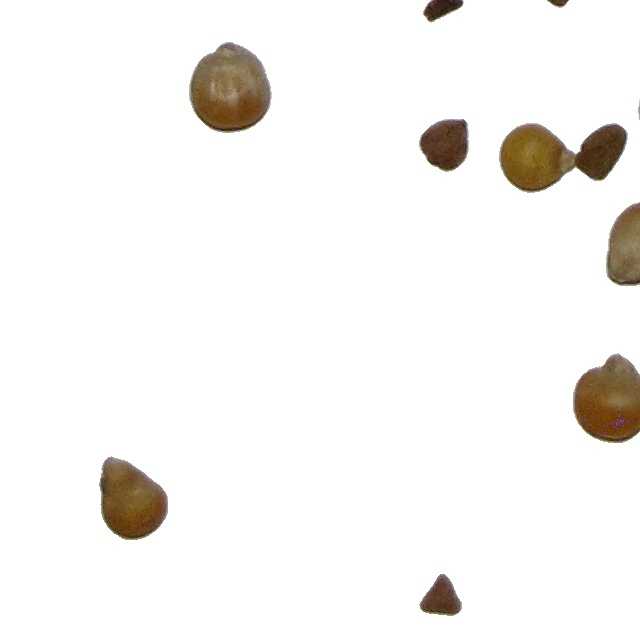buckwheat: (572, 122, 629, 182), (418, 118, 470, 173), (418, 573, 463, 617)
mais: (188, 41, 273, 134), (572, 352, 640, 444), (98, 455, 169, 541), (498, 122, 579, 194), (605, 200, 640, 287), (637, 64, 640, 150)
